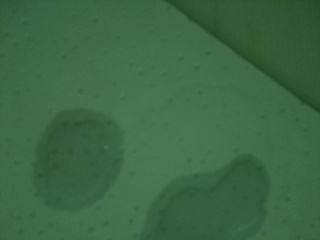Water_detected: (157, 182, 230, 240), (49, 125, 109, 195)
